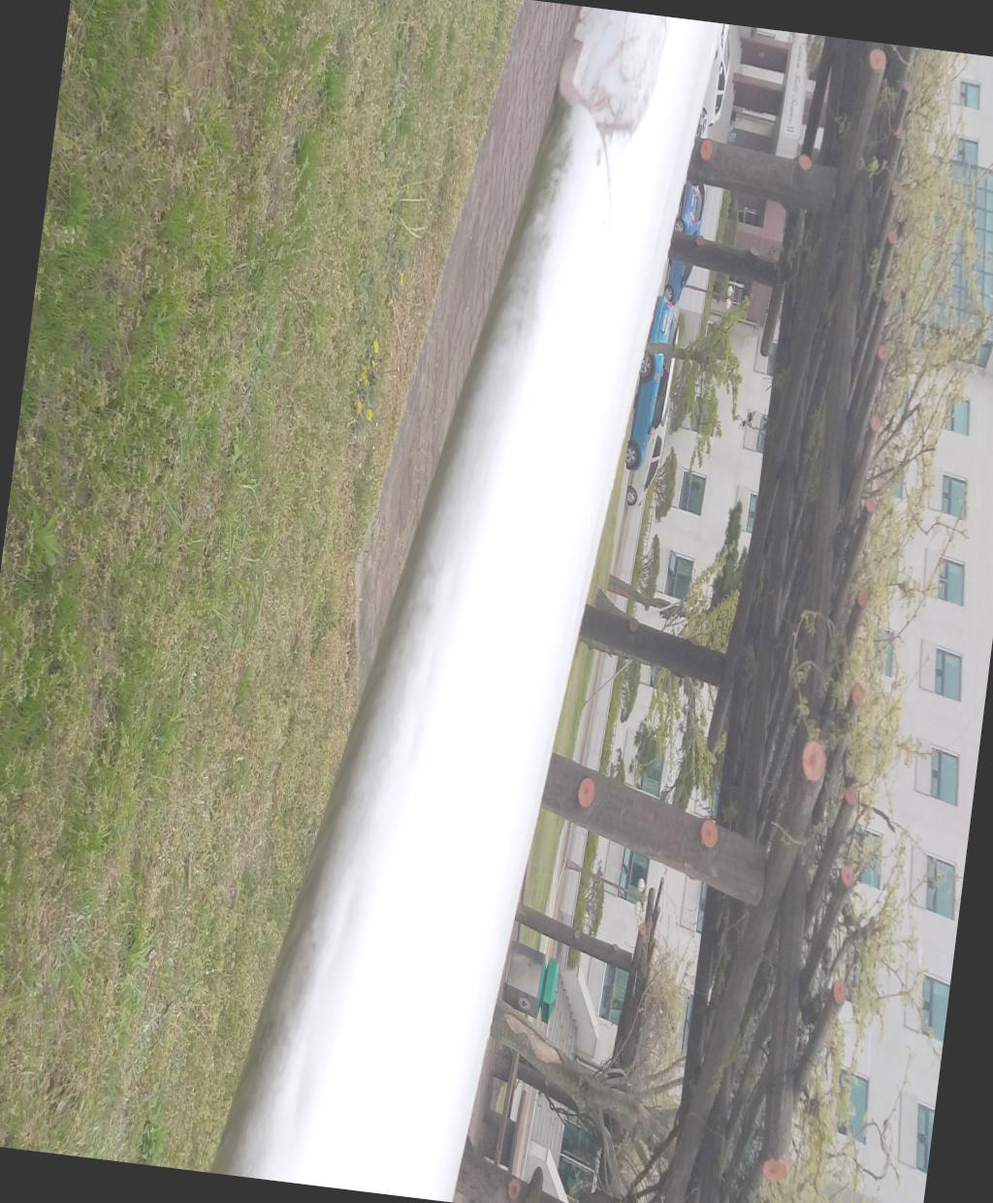corrosion: (900, 178, 993, 432)
